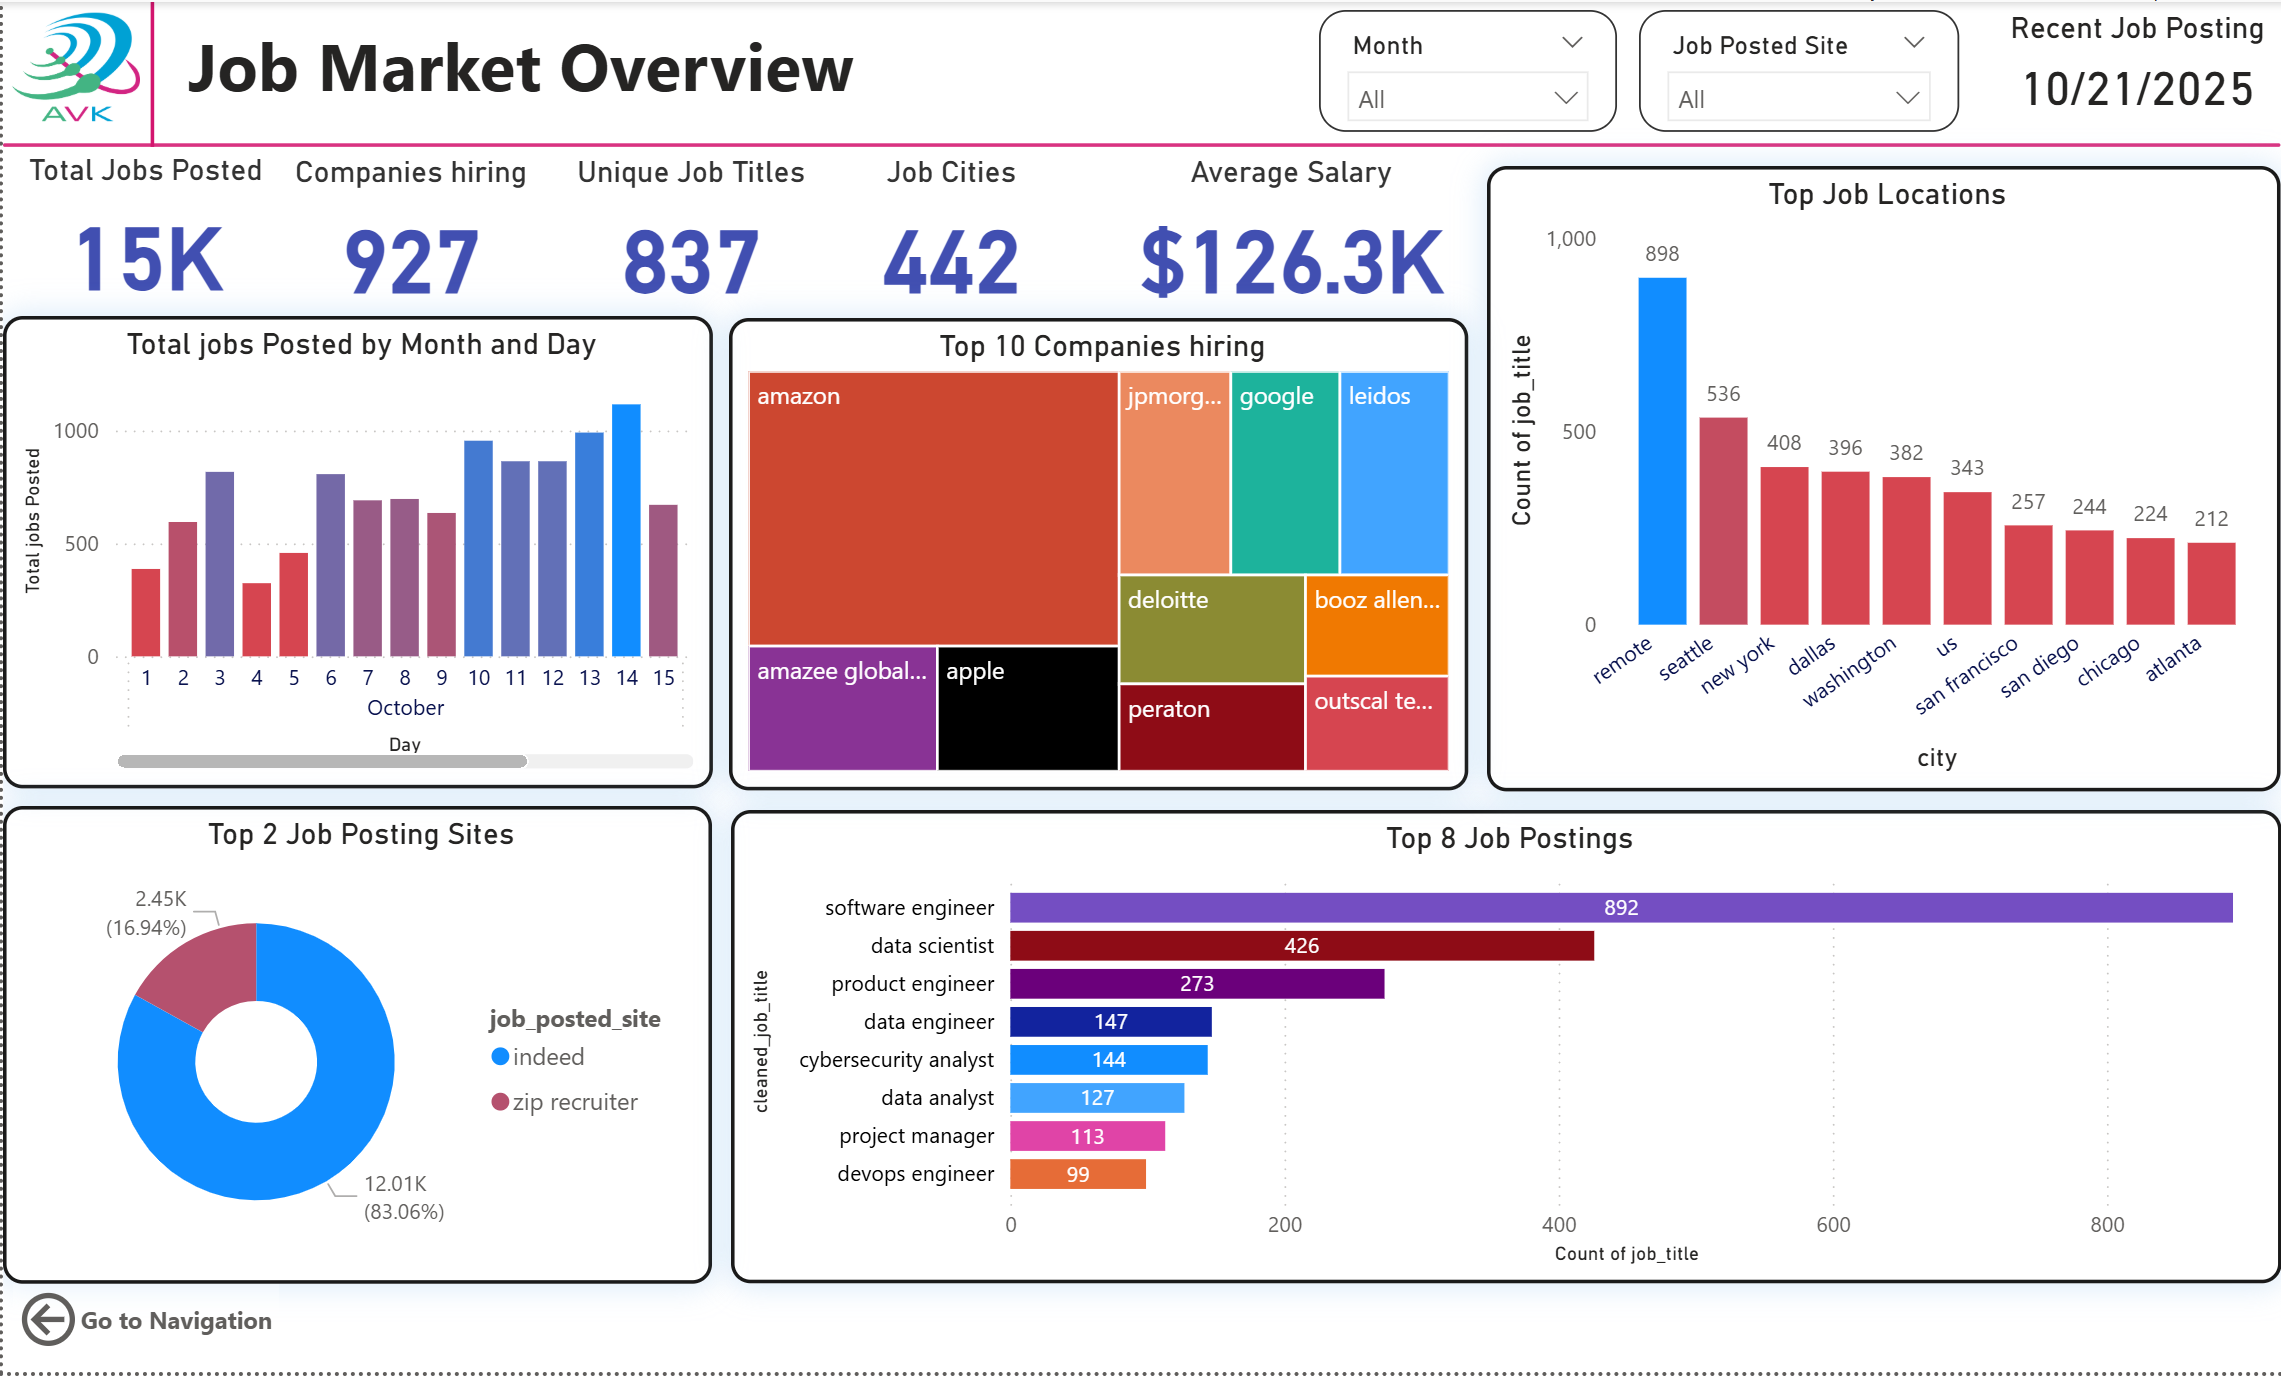

The page's visual inventory and layout, read from the dashboard file:
{"tool":"powerbi","page":{"name":"Overview","canvas":[1280,770],"ordinal":1},"visuals":[{"type":"shape","box":[0,70,1280,21.4],"z":0},{"type":"image","box":[0,0,81.9,73.4],"z":1000},{"type":"textbox","box":[98.6,4.3,421.4,62.9],"z":2000},{"type":"shape","box":[70,0,28.6,81.4],"z":3000},{"type":"card","title":"Companies hiring","fields":{"Values":["job_data.Total Companies Hiring"]},"box":[149.3,85.1,159.8,92.5],"z":4000},{"type":"card","title":"Total Jobs Posted","fields":{"Values":["job_data.Total jobs"]},"box":[0,83.9,160.6,92.6],"z":5000},{"type":"card","title":"Unique Job Titles","fields":{"Values":["job_data.unique job titles"]},"box":[309,85.1,155.6,92.5],"z":6000},{"type":"card","title":"Average Salary","fields":{"Values":["job_data.Aaverage Salary"]},"box":[613.8,85.1,220.7,92.5],"z":7000},{"type":"card","title":"Job Cities","fields":{"Values":["Table.Distinct Locations"]},"box":[464.6,85.1,137.7,92.5],"z":9000},{"type":"card","title":"Recent Job Posting","fields":{"Values":["job_data.Recent job date"]},"box":[1120.1,4.9,160.2,66],"z":10000},{"type":"columnChart","fields":{"Y":["job_data.Total jobs Posted"],"Category":["job_data.job_posted_date.Variation.Date Hierarchy.Month","job_data.job_posted_date.Variation.Date Hierarchy.Day"]},"box":[0,177.1,398.6,265.7],"z":11000},{"type":"donutChart","title":"Top 2 Job Posting Sites","fields":{"Category":["job_data.job_posted_site"],"Y":["CountNonNull(job_data.job_title)"]},"box":[0,451.4,398.6,268.6],"z":12000},{"type":"treemap","title":"Top 10 Companies hiring","fields":{"Group":["job_data.company_name"],"Values":["CountNonNull(job_data.company_name)"]},"box":[408.6,177.1,415.7,265.7],"z":13000},{"type":"barChart","title":"Top 8 Job Postings","fields":{"Category":["job_data.cleaned_job_title"],"Y":["CountNonNull(job_data.job_title)"],"Series":["job_data.job_title"]},"box":[408.9,454.1,871.4,265.9],"z":14000},{"type":"lineChart","title":"Top Job Locations","fields":{"Category":["job_data.city"],"Y":["CountNonNull(job_data.job_title)"]},"box":[834.3,91.9,446,351.3],"z":15000},{"type":"slicer","fields":{"Values":["job_data.job_posted_site"]},"box":[919.6,4.9,179.8,68.5],"z":16000},{"type":"slicer","fields":{"Values":["job_data.job_posted_date.Variation.Date Hierarchy.Month","job_data.job_posted_date.Variation.Date Hierarchy.Day"]},"box":[740.1,4.7,167.6,68.7],"z":17000},{"type":"actionButton","box":[5.5,721,149.7,39.8],"z":17001}]}

Visuals, with their boxes in screenshot pixels (x1, y1, x2, y2), scaled from the page's 1280x770 canvas onto the 2281x1376 screenshot:
shape: 0 125 2280 163
image: 0 0 146 131
textbox: 176 8 927 120
shape: 125 0 176 145
"Companies hiring" card: 266 152 551 317
"Total Jobs Posted" card: 0 150 286 315
"Unique Job Titles" card: 551 152 828 317
"Average Salary" card: 1094 152 1487 317
"Job Cities" card: 828 152 1073 317
"Recent Job Posting" card: 1996 9 2280 127
columnChart - job_data.Total jobs Posted x job_data.job_posted_date.Variation.Date Hierarchy.Month: 0 316 710 791
"Top 2 Job Posting Sites" donutChart: 0 807 710 1287
"Top 10 Companies hiring" treemap: 728 316 1469 791
"Top 8 Job Postings" barChart: 729 811 2280 1287
"Top Job Locations" lineChart: 1487 164 2280 792
slicer - job_data.job_posted_site: 1639 9 1959 131
slicer - job_data.job_posted_date.Variation.Date Hierarchy.Month x job_data.job_posted_date.Variation.Date Hierarchy.Day: 1319 8 1618 131
actionButton: 10 1288 277 1360
